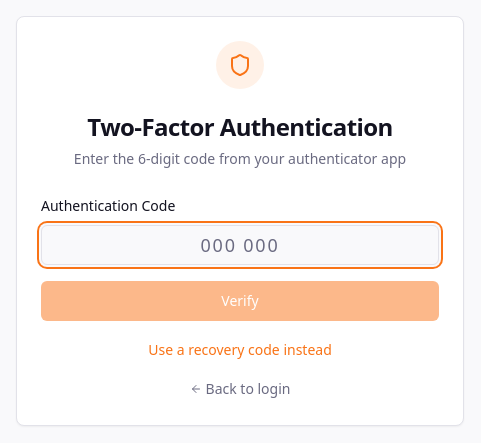
Test: TwoFactorVerifyPage › switches to recovery code mode
Click the button "Use a recovery code instead" at (240,350), box [148,340,332,360]
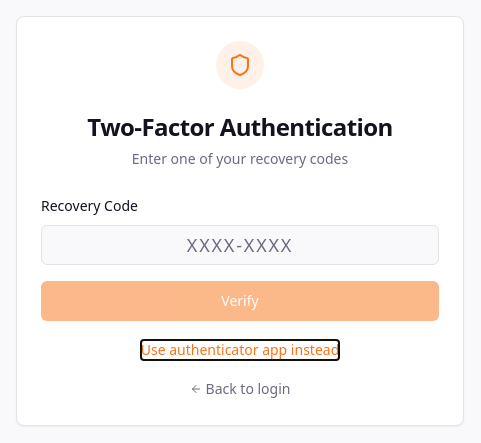
Expected: the field labelled "Recovery Code" is shown, [41,225,439,265]
Now the text "Enter one of your recovery codes" is shown, box [132,149,348,168]
Now the button "Use authenticator app instead" is shown, box [141,340,339,360]
